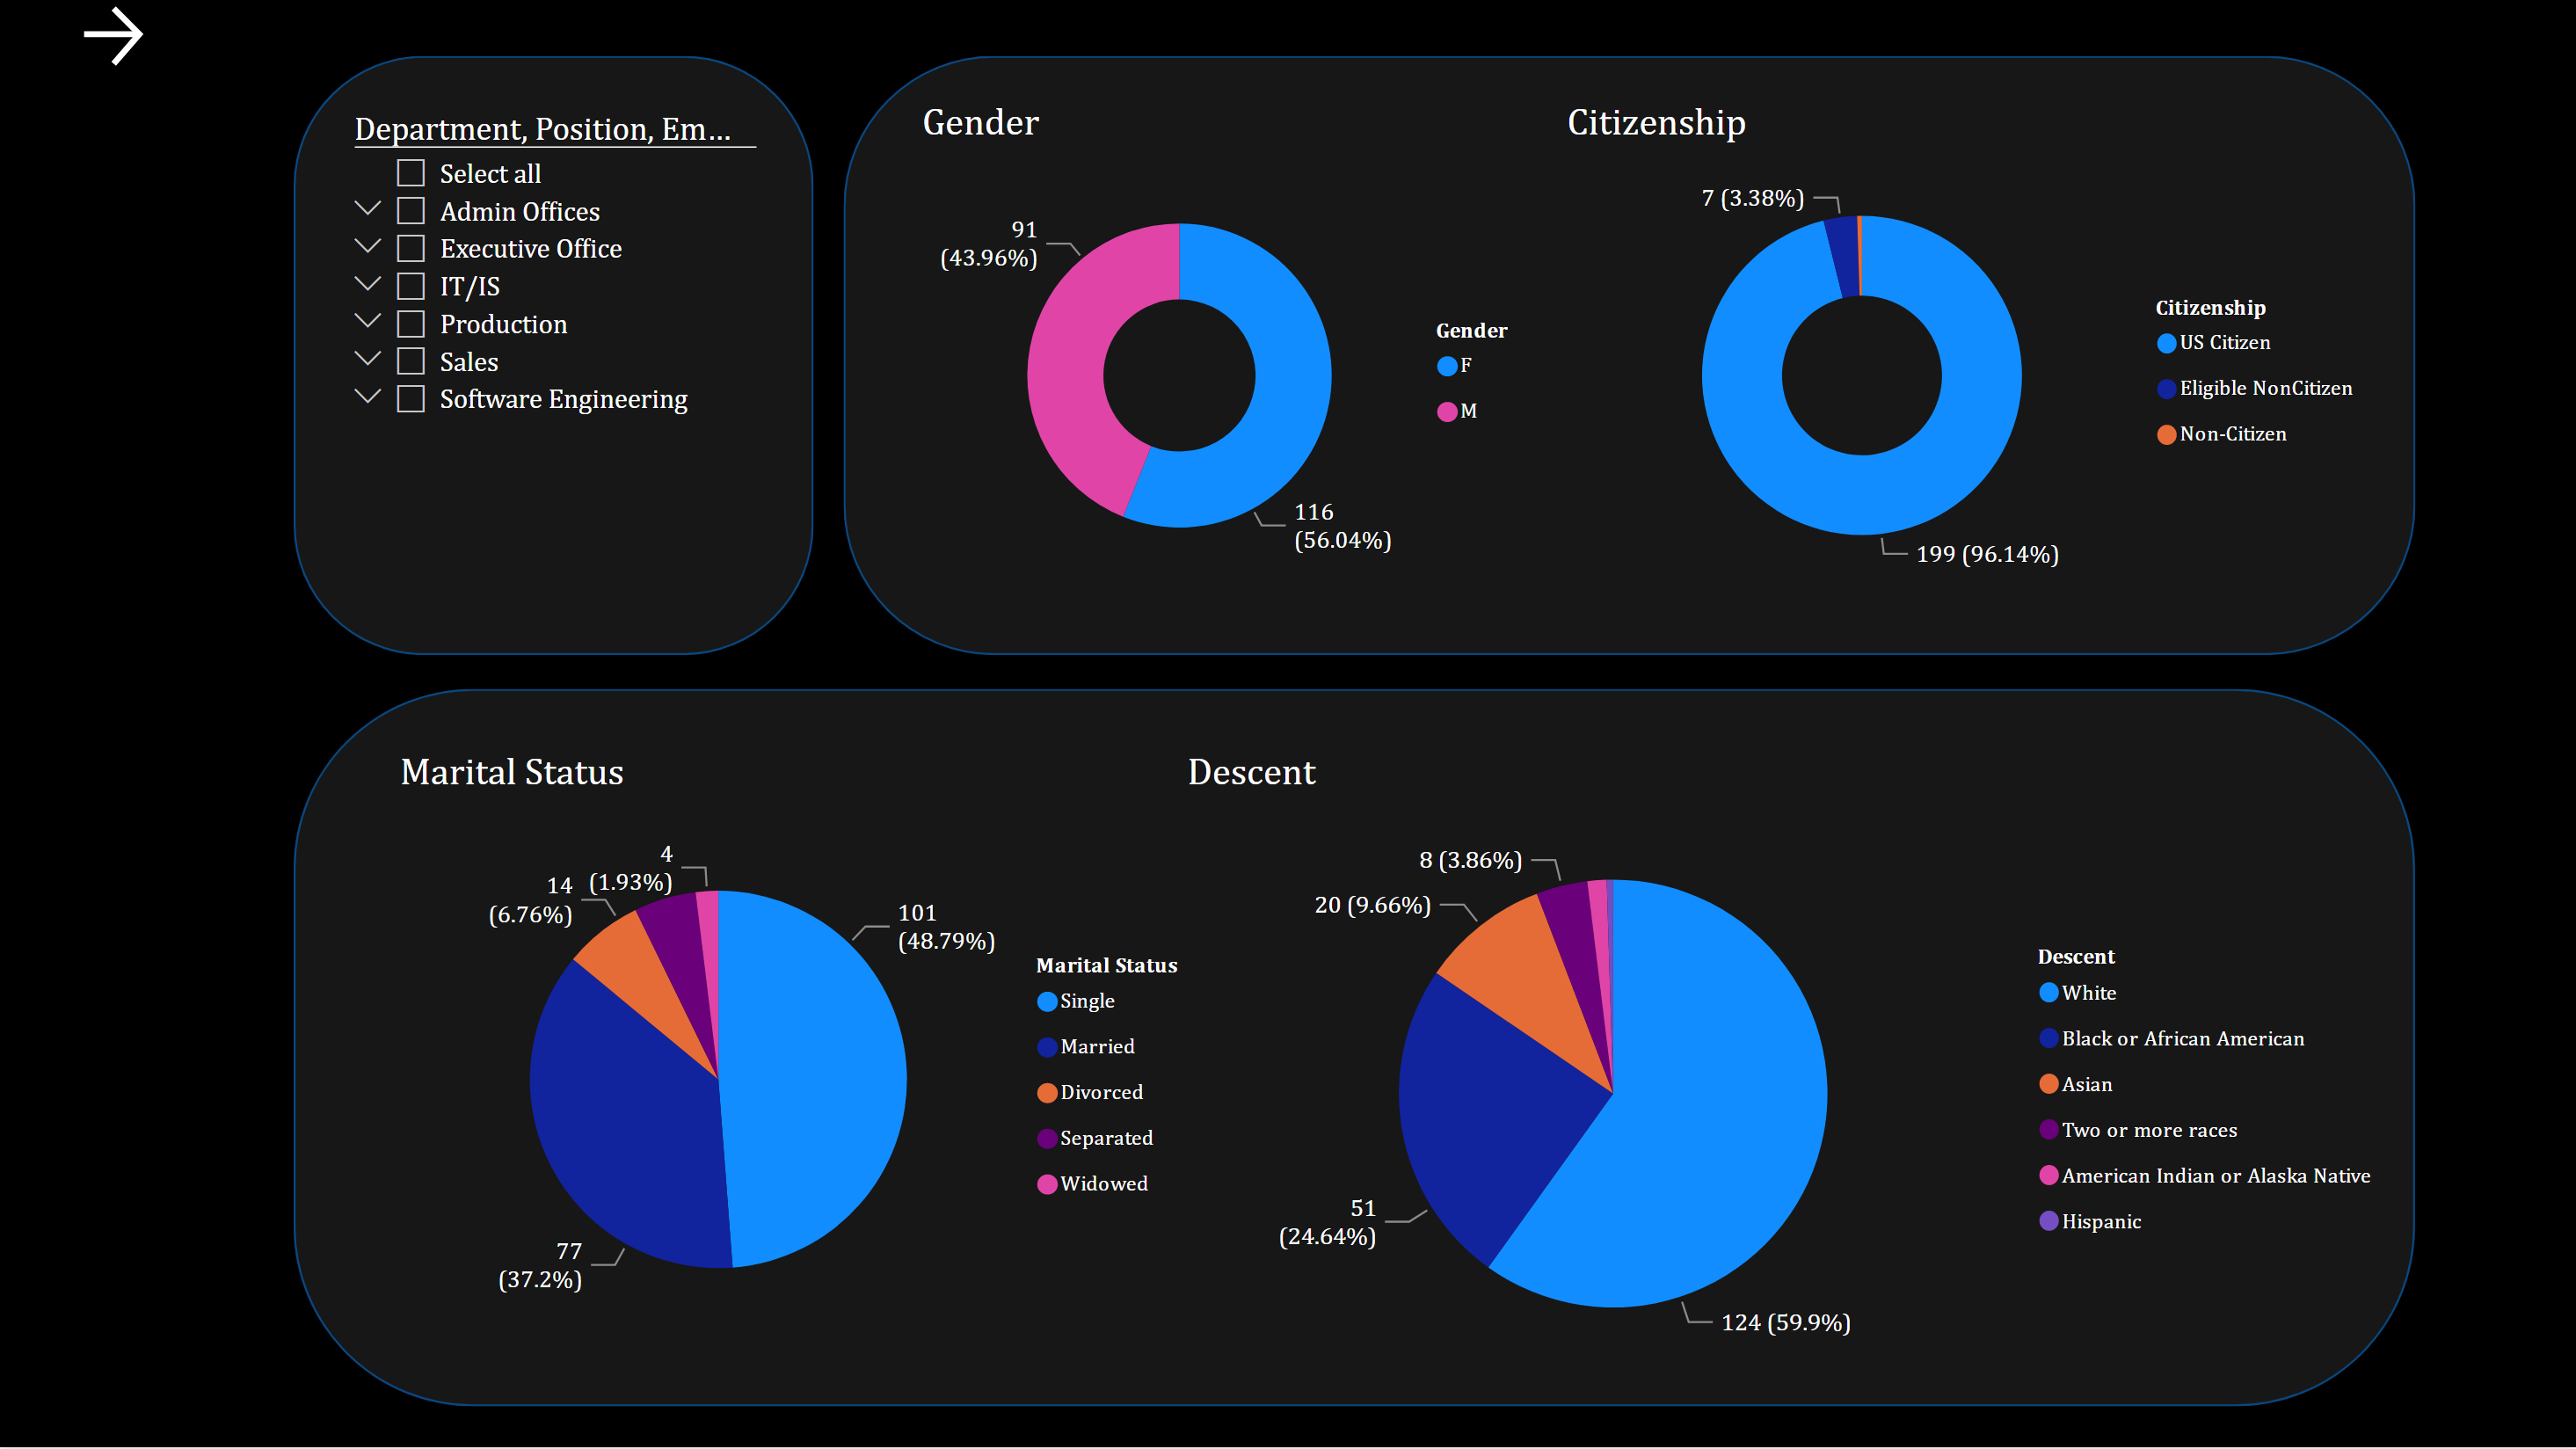

Layout of this report page (visuals, bound fields, positions):
{"tool":"powerbi","page":{"name":"Employee Demographics","canvas":[1280,720],"ordinal":0},"visuals":[{"type":"shape","box":[146.7,343.4,1052.5,356.3],"z":0},{"type":"shape","box":[419.3,29.3,779.9,297.6],"z":1000},{"type":"donutChart","title":"Gender","fields":{"Y":["HRDataset.EmpID"],"Category":["HRDataset.Sex"]},"box":[453.5,50.4,320,253.2],"z":2000},{"type":"pieChart","title":"Marital Status","fields":{"Y":["HRDataset.EmpID"],"Category":["HRDataset.MaritalDesc"]},"box":[194.6,372.9,410.7,306.1],"z":3000},{"type":"donutChart","title":"Citizenship","fields":{"Y":["HRDataset.EmpID"],"Category":["HRDataset.CitizenDesc"]},"box":[773.5,50.4,410.1,253.2],"z":4000},{"type":"shape","box":[146.7,29.3,258.3,297.6],"z":5000},{"type":"pieChart","title":"Descent","fields":{"Y":["HRDataset.EmpID"],"Category":["HRDataset.RaceDesc"]},"box":[585.3,372.8,606,320.5],"z":6000},{"type":"slicer","fields":{"Values":["HRDataset.Department Hierarchy.Department","HRDataset.Department Hierarchy.Position","HRDataset.Department Hierarchy.Employee_Name"]},"box":[163.6,50.4,225.8,246.7],"z":7000},{"type":"actionButton","box":[36.6,0,44.6,39.3],"z":8000}]}

Visuals, with their boxes in screenshot pixels (x1, y1, x2, y2), scaled from the page's 1280x720 canvas onto the 2576x1449 screenshot:
shape: {"x1": 295, "y1": 691, "x2": 2413, "y2": 1409}
shape: {"x1": 844, "y1": 59, "x2": 2413, "y2": 658}
"Gender" donutChart: {"x1": 913, "y1": 101, "x2": 1557, "y2": 611}
"Marital Status" pieChart: {"x1": 391, "y1": 751, "x2": 1219, "y2": 1366}
"Citizenship" donutChart: {"x1": 1557, "y1": 101, "x2": 2382, "y2": 611}
shape: {"x1": 295, "y1": 59, "x2": 815, "y2": 658}
"Descent" pieChart: {"x1": 1178, "y1": 750, "x2": 2398, "y2": 1395}
slicer - HRDataset.Department Hierarchy.Department x HRDataset.Department Hierarchy.Position: {"x1": 329, "y1": 101, "x2": 783, "y2": 598}
actionButton: {"x1": 74, "y1": 0, "x2": 164, "y2": 79}
